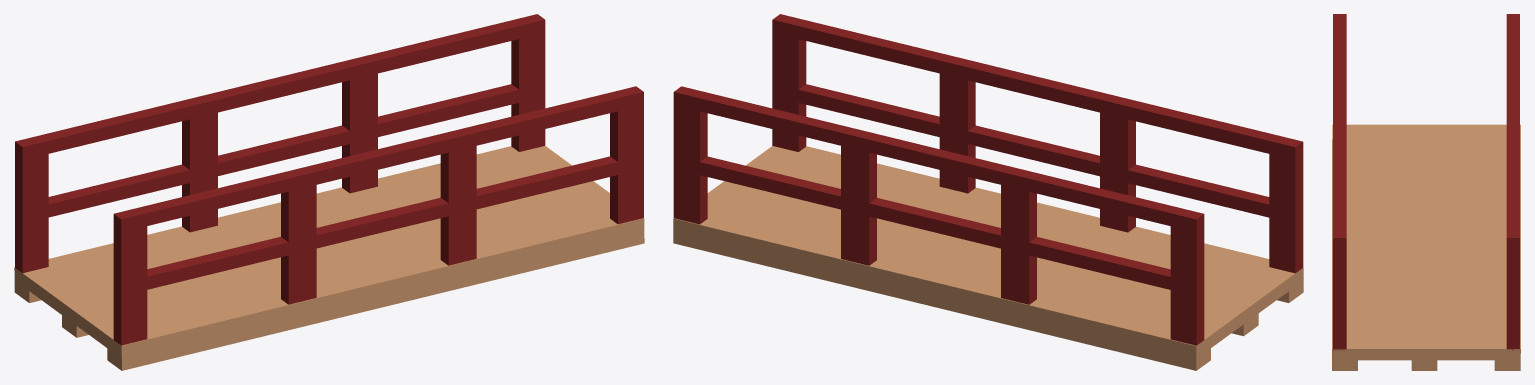
The model's file is bridge.fbx.
3 views of the same model, side by side, from view 1: azimuth 30°, elevation 25°; view 2: azimuth 150°, elevation 25°; view 3: azimuth 270°, elevation 25° (orthographic). The views are drawn at different scales.
Parts seen in each view (by area): view 1: Bridge; view 2: Bridge; view 3: Bridge.
Boxes of the visible parts, x1=… form: Bridge: x1=14, y1=14, x2=644, y2=370; Bridge: x1=673, y1=14, x2=1303, y2=370; Bridge: x1=1332, y1=14, x2=1520, y2=370.
Size of the model in its own units: 367 by 101 by 131.
